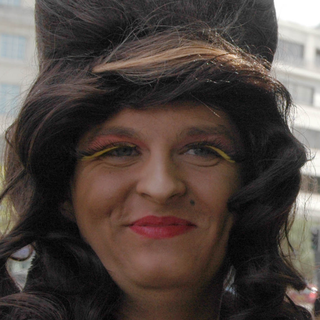eye: (178, 140, 225, 163), (95, 141, 144, 163)
